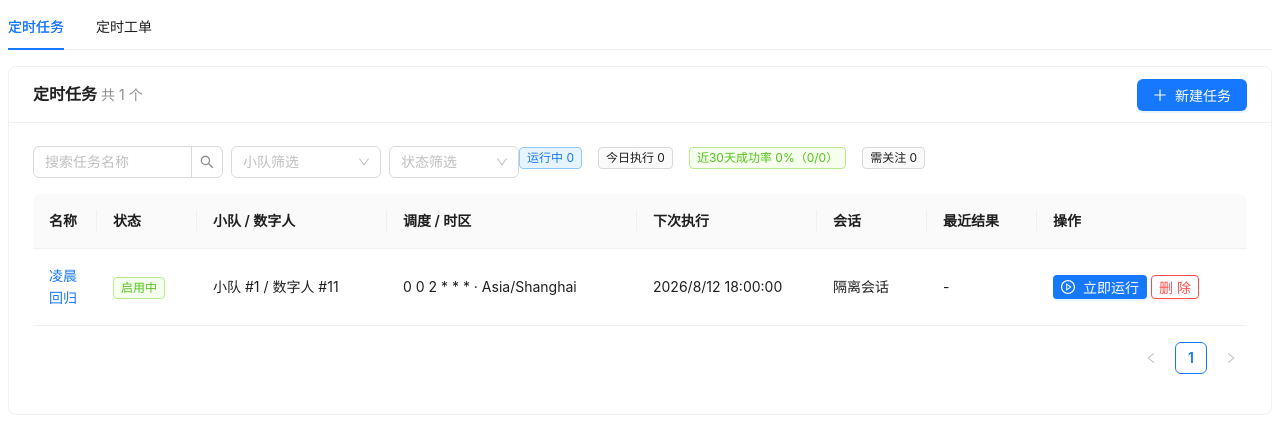
Test: ScheduledTaskListPage › loads scheduled workitems and remembers the tab when switching to 定时工单
What coordinates should you click on to do the following:
click the tab "定时工单"
I would click on:
 (124, 27)
Its box is [96,16,152,38].
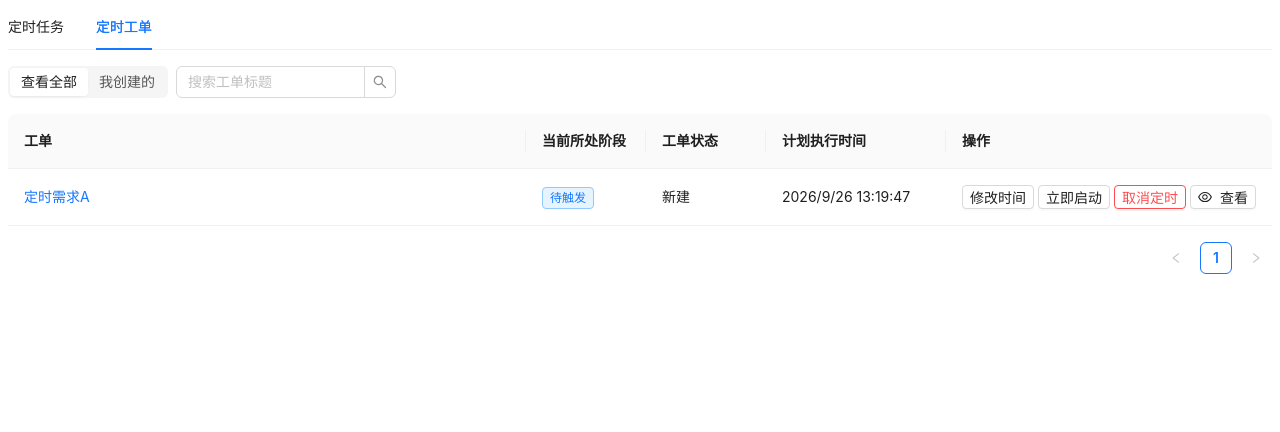
Expected: the link "定时需求A" is shown, [24,188,90,205]
